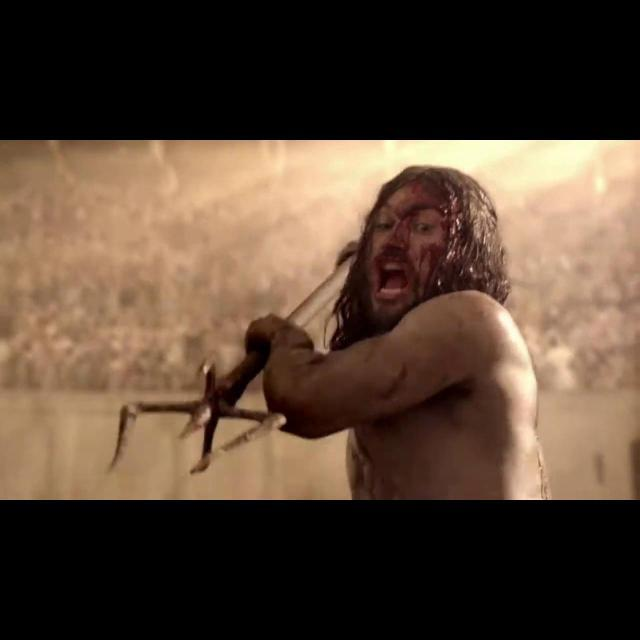blood: (373, 182, 448, 324)
